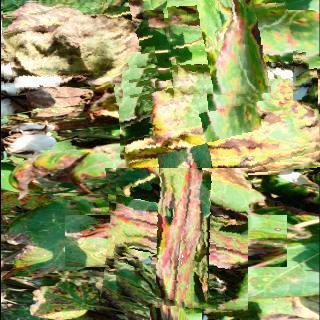blight: (117, 57, 319, 175), (103, 168, 247, 314), (2, 0, 154, 87), (165, 0, 292, 102)
